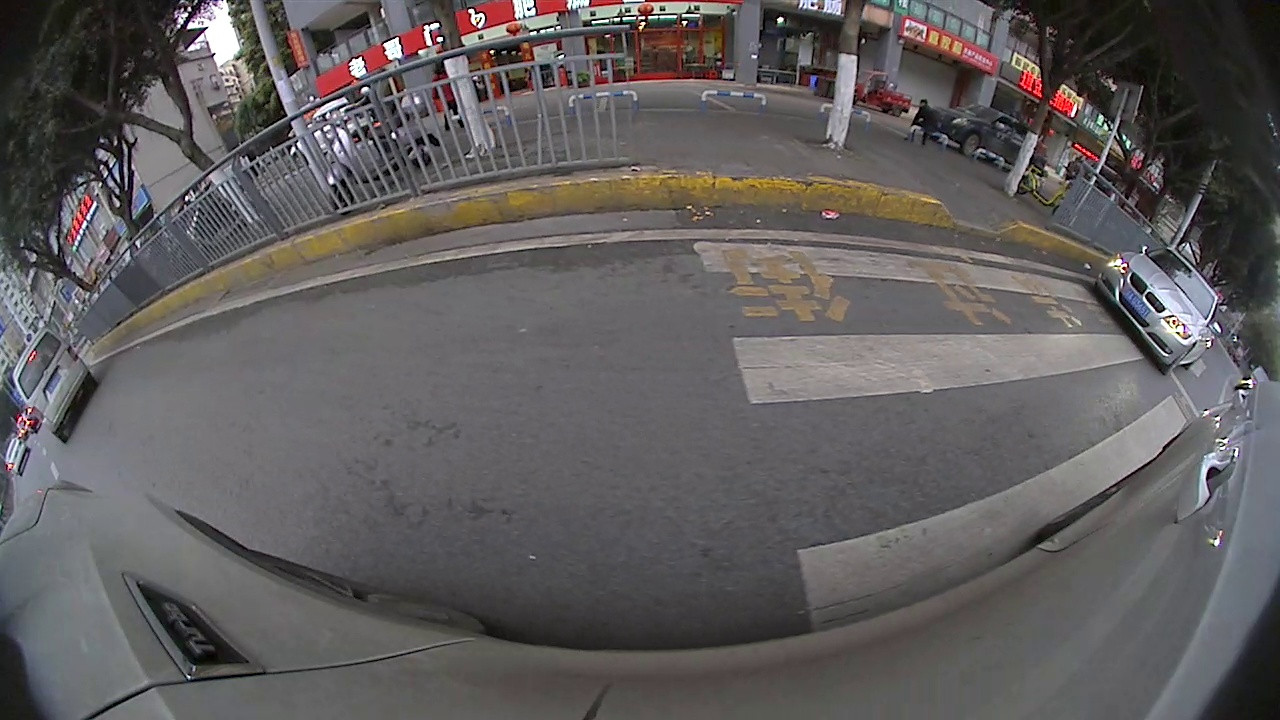car: (1089, 242, 1221, 378), (7, 322, 109, 444), (928, 97, 1046, 170)
front: (957, 130, 985, 160)
person: (908, 99, 942, 149)
rider: (322, 104, 448, 211), (1017, 159, 1075, 215)
